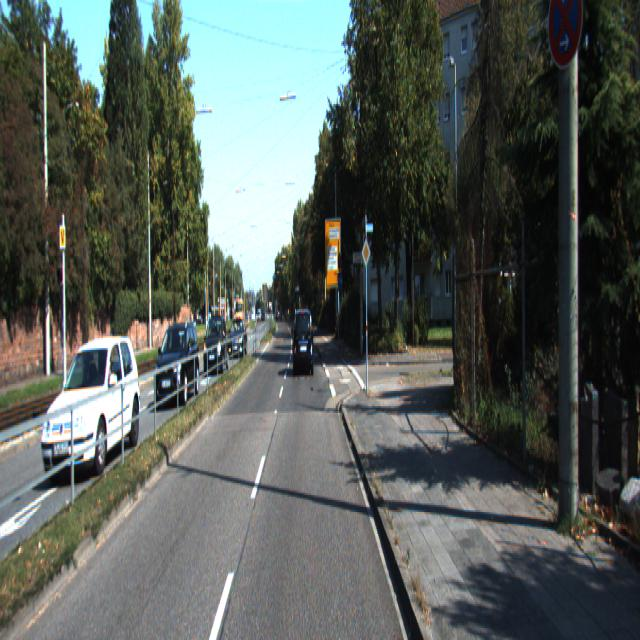Car: (42, 326, 142, 478), (153, 322, 200, 414), (203, 316, 230, 377), (293, 309, 315, 379), (228, 320, 248, 361)
